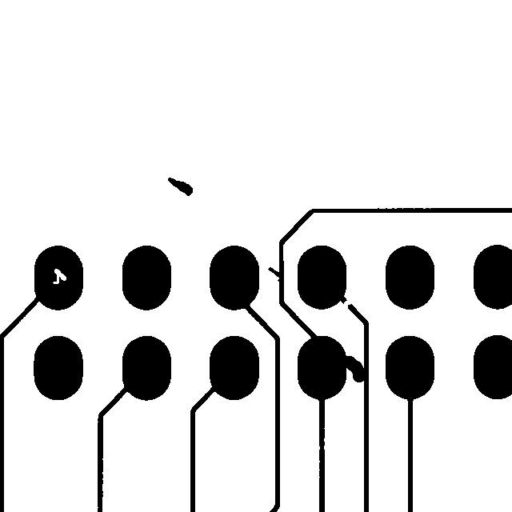copper: (160, 170, 200, 203)
open: (336, 293, 358, 316)
pin-hole: (45, 261, 74, 291)
short: (334, 348, 373, 390)
spur: (260, 259, 289, 289)
